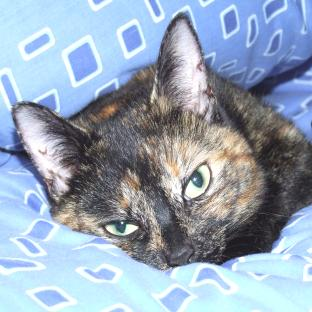Animal: (12, 13, 312, 271)
